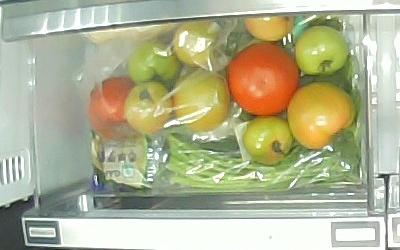tomato: (227, 43, 300, 116), (288, 83, 355, 149), (295, 26, 348, 75), (243, 117, 294, 165), (244, 16, 295, 42)
tomato_vinyl: (173, 70, 230, 132), (89, 77, 143, 142), (124, 81, 174, 134), (173, 19, 223, 68), (128, 42, 182, 85)
